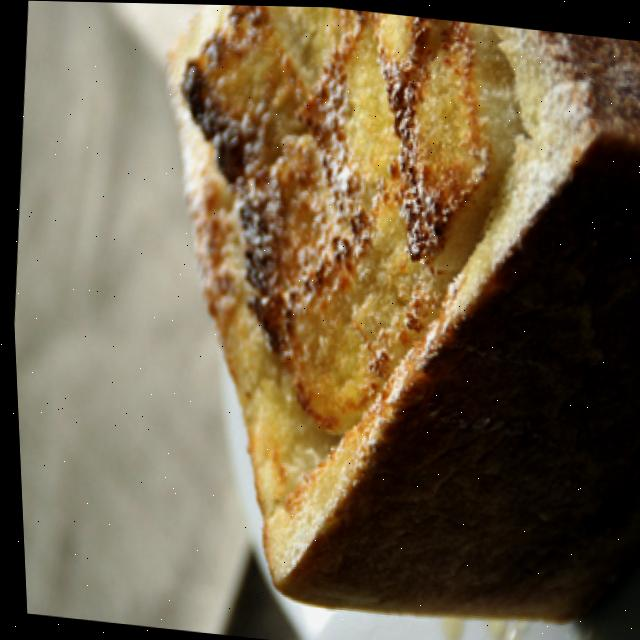面包点心: (102, 2, 640, 640)
